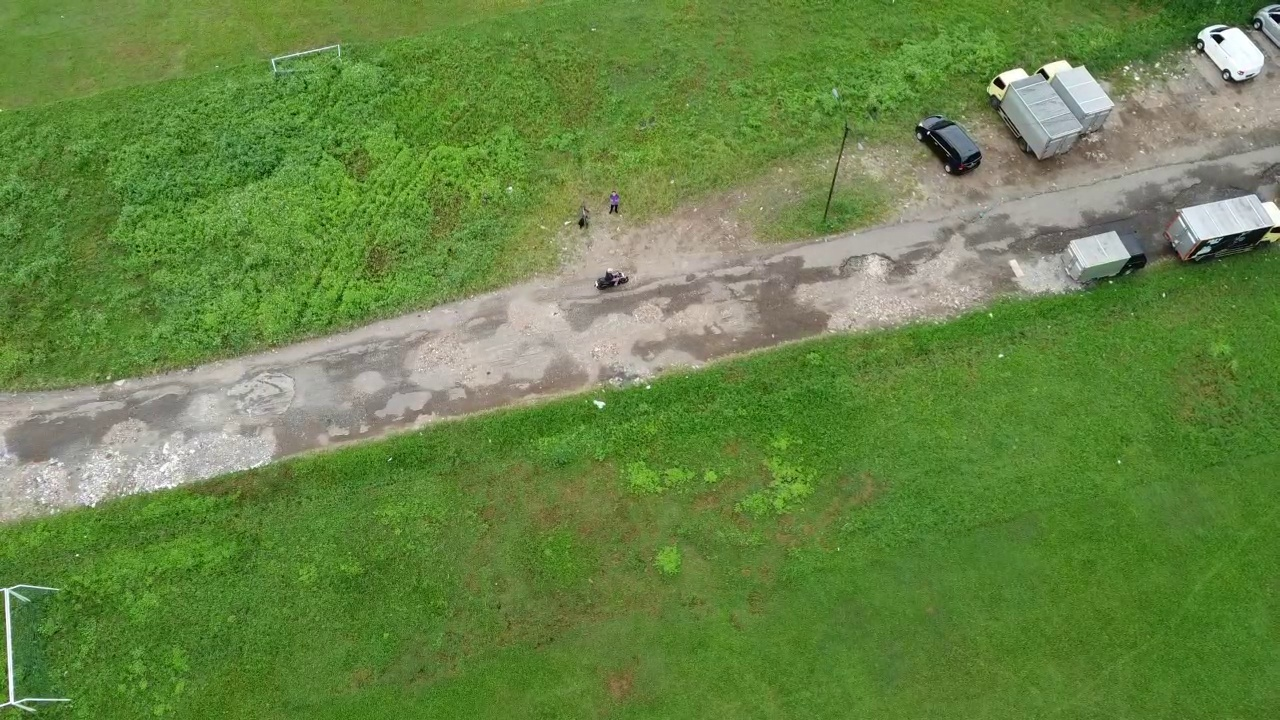mobil: (1187, 15, 1269, 91), (904, 111, 988, 183)
